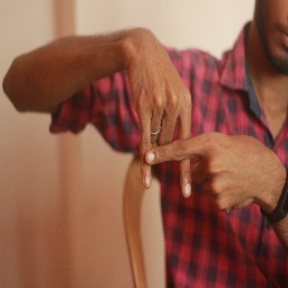H: (108, 87, 228, 210)
